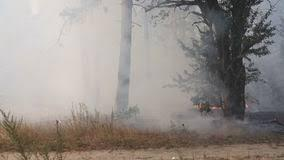yanwu: (1, 2, 254, 135)
